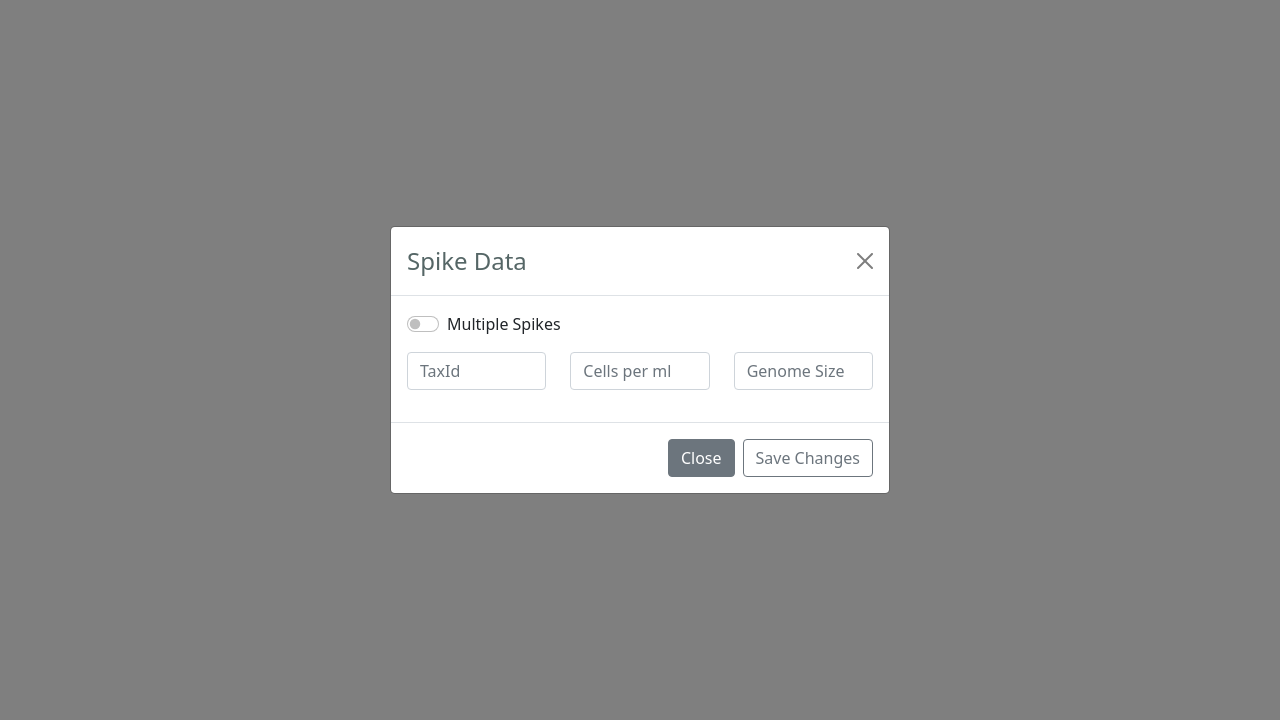
Modal › should display file name over input fields
What coordinates should you click on to do the following:
click the checkbox with test id "spike-switch"
I would click on:
 (423, 324)
Its box is [407,316,439,332].
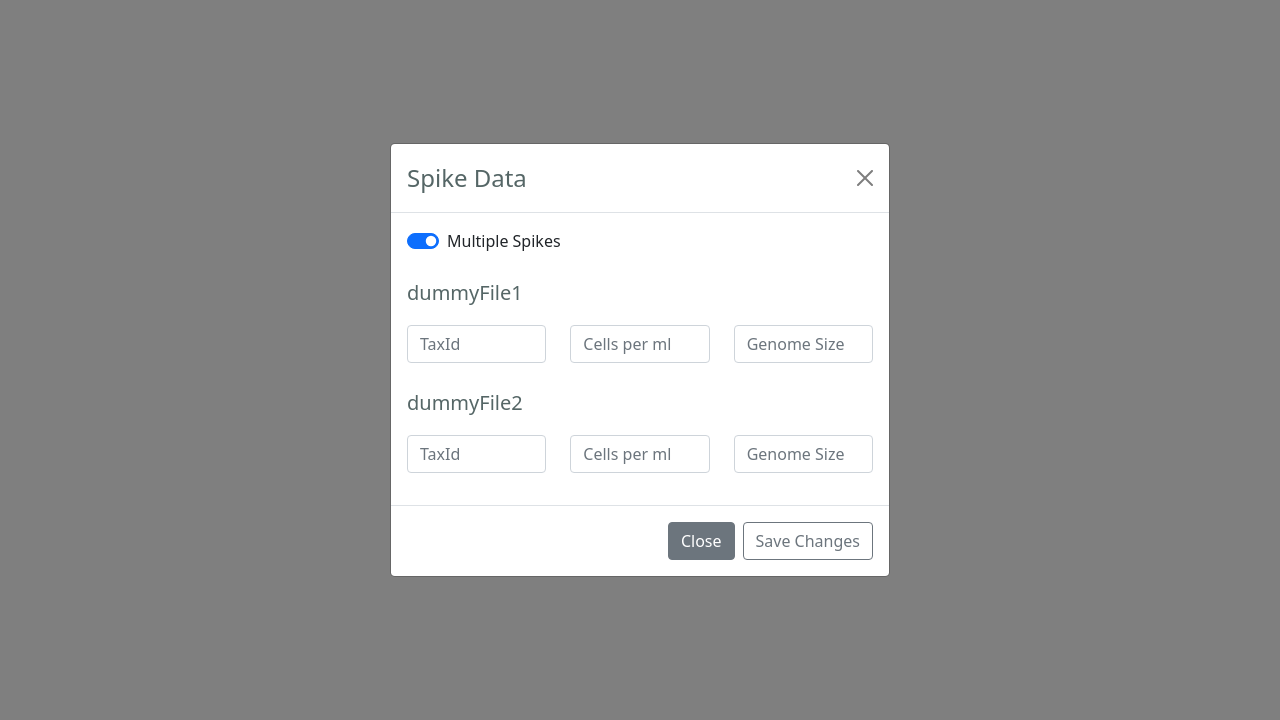
Expected: the text "dummyFile1" is shown, [407,279,523,306]
Expected: the text "dummyFile2" is shown, [407,389,523,416]
